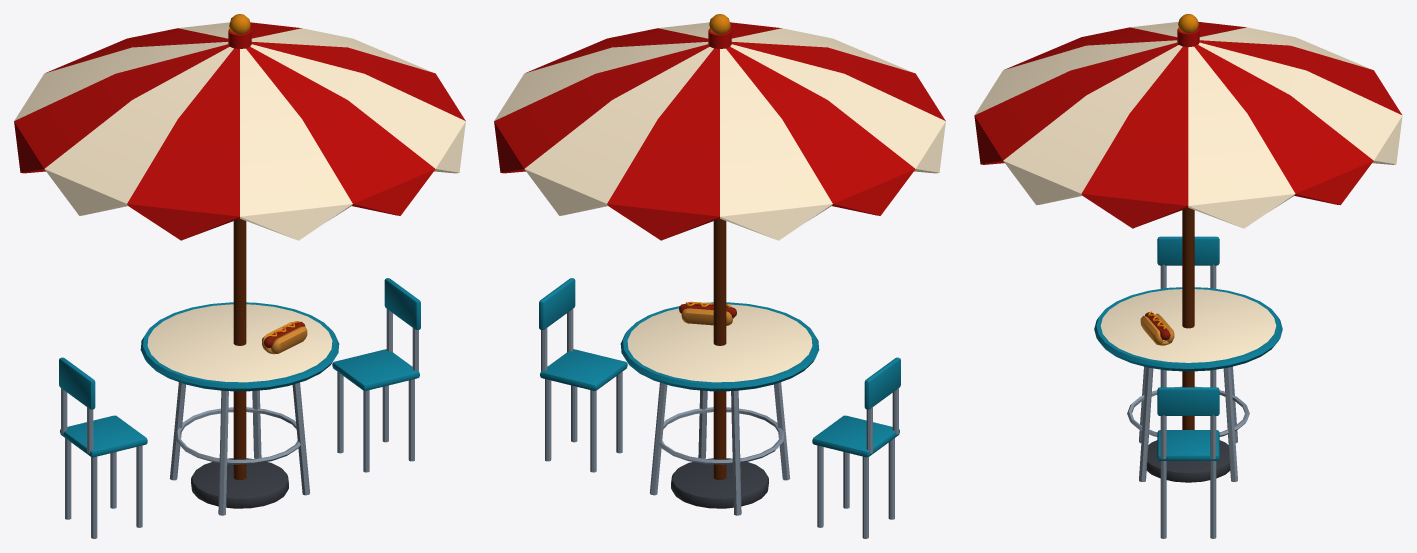
File: PatioUmbrella.fbx
3 views of the same model, side by side, from view 1: azimuth 30°, elevation 25°; view 2: azimuth 150°, elevation 25°; view 3: azimuth 270°, elevation 25° (orthographic). The views are drawn at different scales.
Parts seen in each view (by area): view 1: PatioUmbrella; view 2: PatioUmbrella; view 3: PatioUmbrella.
Part boxes in pixels (<box>): PatioUmbrella: <box>14,14,465,538</box>; PatioUmbrella: <box>494,14,945,538</box>; PatioUmbrella: <box>974,14,1402,538</box>.
Bounding box in the file's own units: 6.9 × 7.99 × 6.9.
